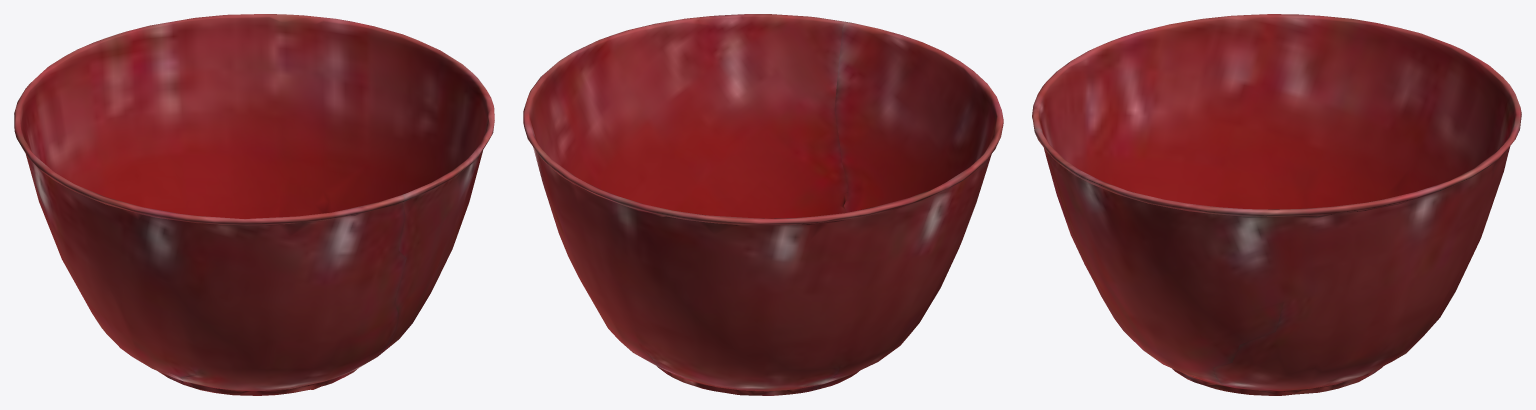
File: gso_bradshaw_international_11642_7_qt_mp_plastic_bowl.glb
3 views of the same model, side by side, from view 1: azimuth 30°, elevation 25°; view 2: azimuth 150°, elevation 25°; view 3: azimuth 270°, elevation 25° (orthographic).
Visible parts, largest first — view 1: z-up-to-y-up; view 2: z-up-to-y-up; view 3: z-up-to-y-up.
Boxes of the visible parts, x1,y1,x2,y2 form: z-up-to-y-up: (14,14,494,395); z-up-to-y-up: (523,14,1003,395); z-up-to-y-up: (1032,14,1521,395).
Bounding box in the file's own units: 0.2826 × 0.1544 × 0.285.
1 material, 1 textured.
